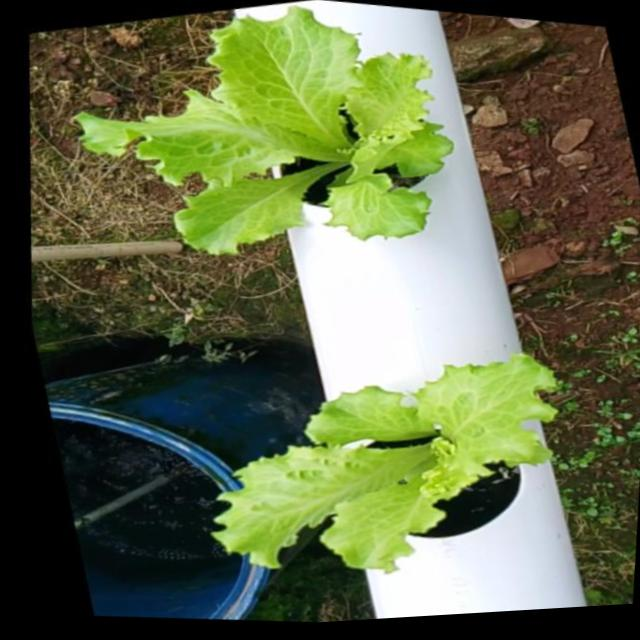Baby: (79, 2, 456, 254), (216, 356, 562, 576)
